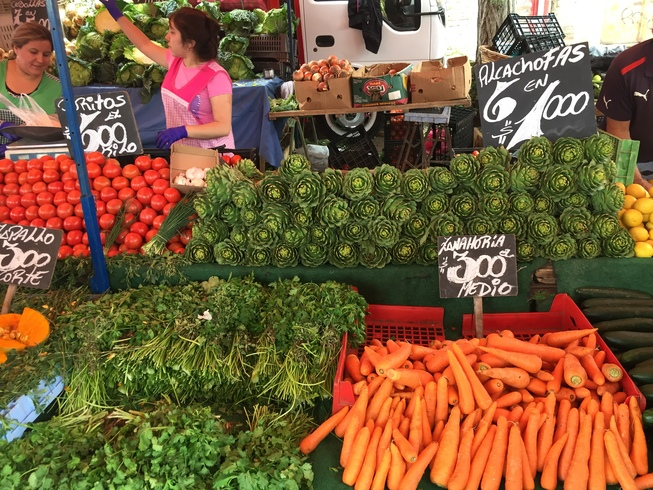precio: (468, 44, 603, 157), (47, 91, 145, 174), (434, 231, 523, 306), (1, 217, 69, 290)
